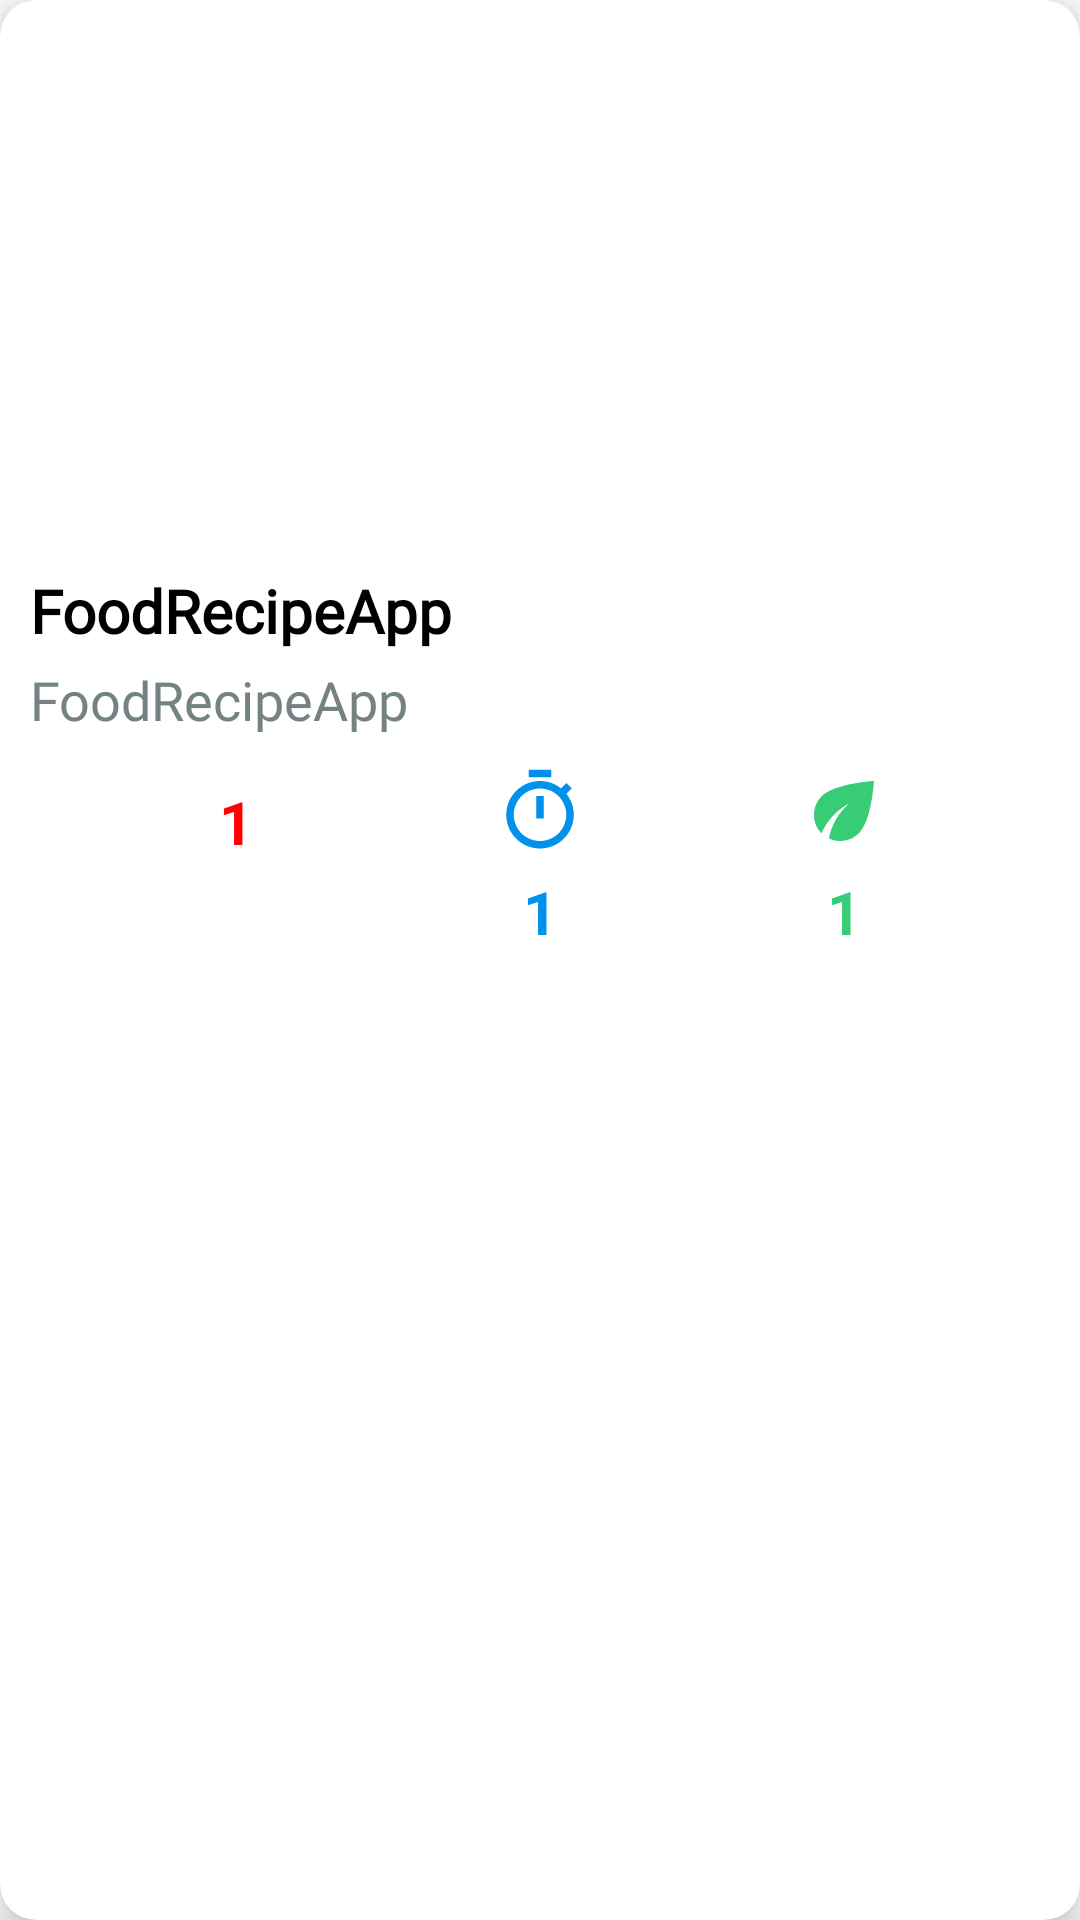

Where to tap for icons on this 1080 x 1920 app screen, as point (x, y):
eco: point (844, 811)
timer: point (540, 809)
